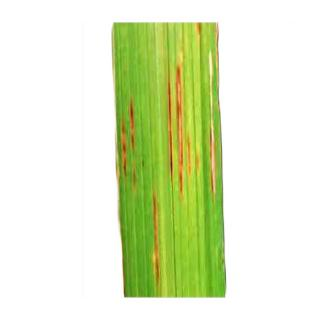Bercak-Cokelat-Sempit: (160, 57, 195, 196), (114, 98, 140, 192), (150, 195, 164, 280), (208, 118, 216, 196), (213, 25, 225, 70), (193, 20, 210, 38)
